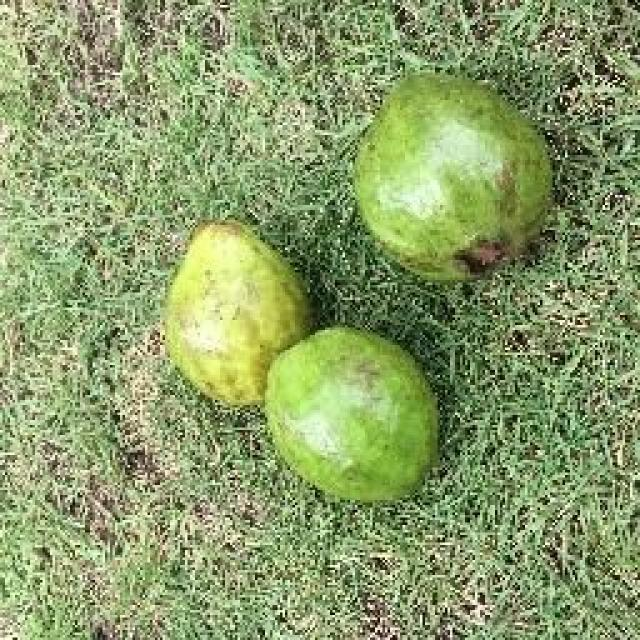Good_Guava: (262, 328, 440, 500)
